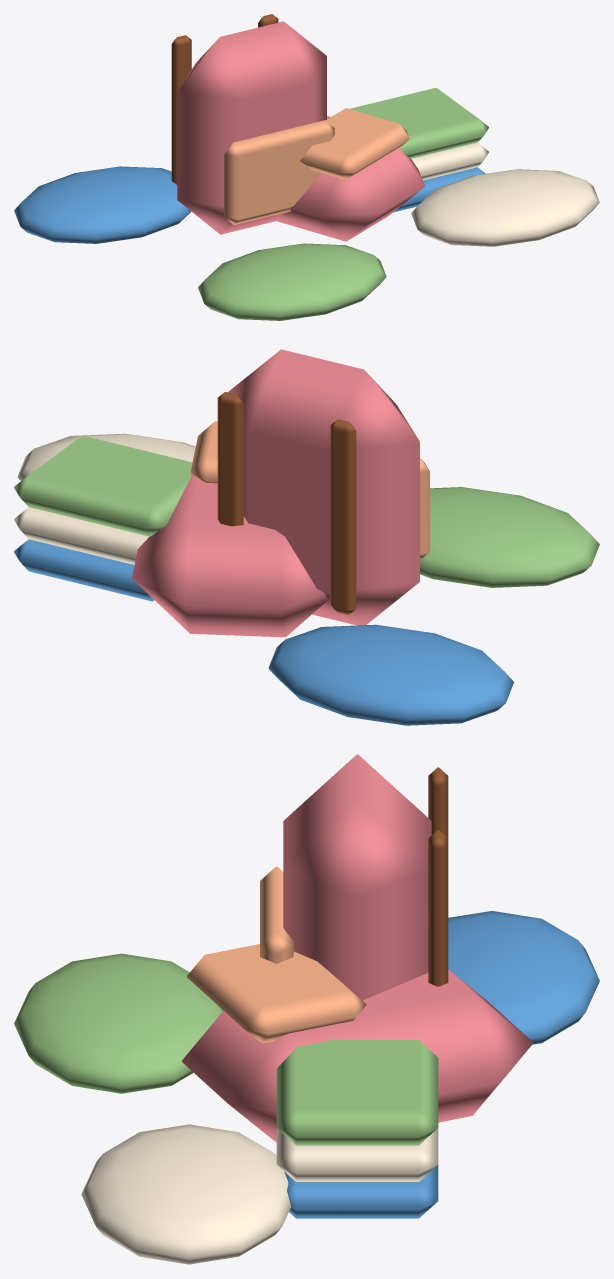
File: tidy_backpack.glb
The picture shows the model from 3 angles, top to bottom: view 1: azimuth 30°, elevation 25°; view 2: azimuth 150°, elevation 25°; view 3: azimuth 270°, elevation 25°; orthographic projection. The views are drawn at different scales.
Visible parts, largest first — view 1: TPack, MShirt1, MShirt2, MShirt0, TPocket, MPack, TFold2, MPocket, TFold1, TStrap-1, TFold0; view 2: TPack, MPack, MShirt0, MShirt2, TFold2, TStrap-1, TFold1, TFold0, TStrap1, MShirt1, MPocket, TPocket; view 3: TPack, MShirt1, MPack, MShirt2, TFold2, MShirt0, MPocket, TFold1, TFold0, TStrap1, TPocket, TStrap-1.
Part boxes in pixels (x1=…): TPack: x1=177, y1=21, x2=326, y2=234; MShirt1: x1=411, y1=169, x2=599, y2=246; MShirt2: x1=198, y1=243, x2=386, y2=320; MShirt0: x1=14, y1=166, x2=191, y2=243; TPocket: x1=224, y1=120, x2=334, y2=224; MPack: x1=275, y1=116, x2=425, y2=241; TFold2: x1=349, y1=87, x2=488, y2=158; MPocket: x1=300, y1=108, x2=409, y2=179; TFold1: x1=411, y1=142, x2=488, y2=180; TStrap-1: x1=171, y1=35, x2=191, y2=184; TFold0: x1=393, y1=167, x2=485, y2=212; TPack: x1=228, y1=349, x2=419, y2=625; MPack: x1=132, y1=473, x2=327, y2=637; MShirt0: x1=268, y1=624, x2=513, y2=725; MShirt2: x1=420, y1=487, x2=599, y2=587; TFold2: x1=14, y1=435, x2=192, y2=536; TStrap-1: x1=330, y1=419, x2=356, y2=614; TFold1: x1=14, y1=507, x2=149, y2=564; TFold0: x1=14, y1=539, x2=154, y2=601; TStrap1: x1=217, y1=392, x2=243, y2=526; MShirt1: x1=17, y1=433, x2=195, y2=480; MPocket: x1=190, y1=421, x2=217, y2=483; TPocket: x1=420, y1=458, x2=429, y2=559; TPack: x1=283, y1=754, x2=431, y2=1000; MShirt1: x1=81, y1=1124, x2=291, y2=1264; MPack: x1=182, y1=970, x2=533, y2=1142; MShirt2: x1=14, y1=953, x2=223, y2=1093; TFold2: x1=276, y1=1040, x2=438, y2=1145; MShirt0: x1=448, y1=911, x2=599, y2=1044; MPocket: x1=187, y1=944, x2=366, y2=1043; TFold1: x1=276, y1=1128, x2=438, y2=1181; TFold0: x1=284, y1=1165, x2=438, y2=1218; TStrap1: x1=428, y1=830, x2=448, y2=986; TPocket: x1=260, y1=866, x2=293, y2=963; TStrap-1: x1=428, y1=767, x2=448, y2=837.
Size of the model in its own units: 1.2 by 0.498 by 0.87.
